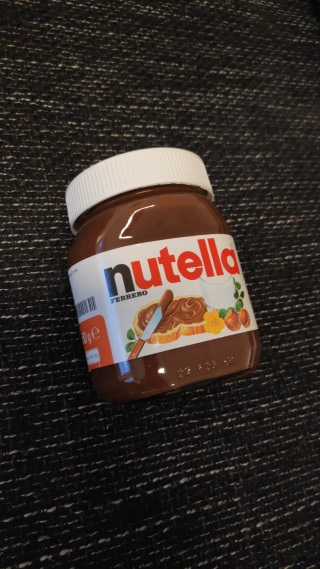nutella: (62, 146, 265, 407)
